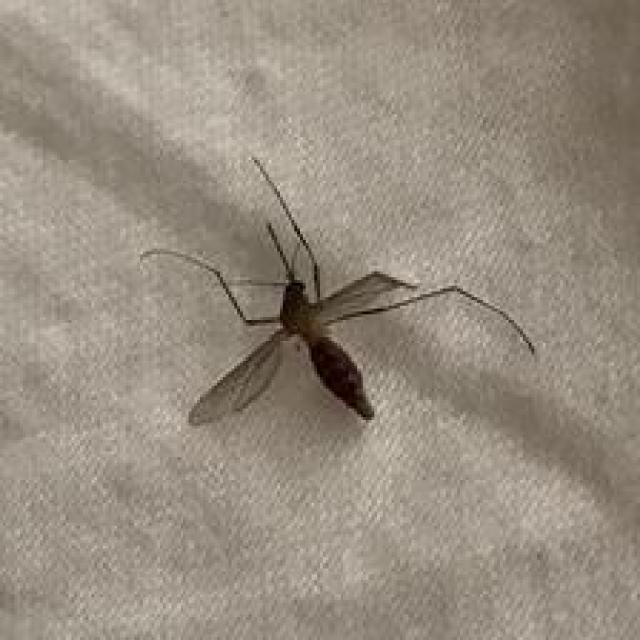Culex: (138, 154, 536, 429)
